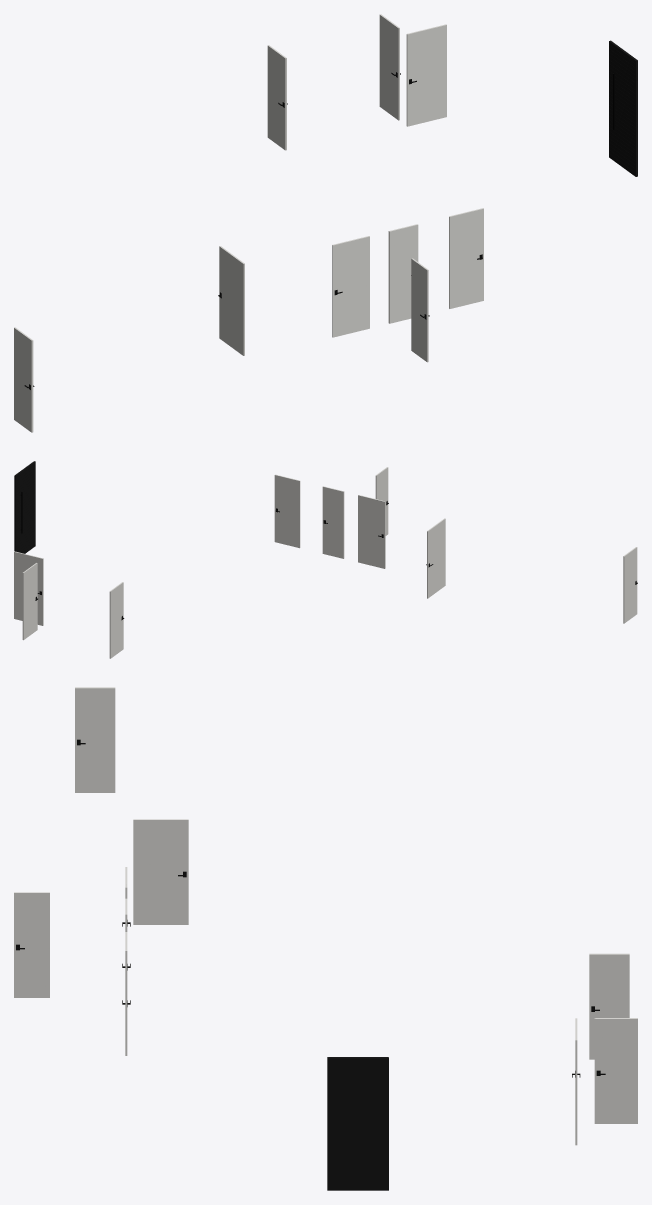
Rendered from casa_portas.glb.
3 views of the same model, one above another, from view 1: azimuth 30°, elevation 25°; view 2: azimuth 150°, elevation 25°; view 3: azimuth 270°, elevation 25° (orthographic). The views are drawn at different scales.
Visible parts, largest first — view 1: PORTA_servico, PORTA_hospedes, PORTA_entrada, PORTA_escritorio, PORTA_lavabo, PORTA_suite, PORTA_lavanderia, PORTA_gatos, PORTA_wc_master, PORTA_wc_hospedes; view 2: PORTA_hospedes, PORTA_entrada, PORTA_escritorio, PORTA_lavabo, PORTA_suite, PORTA_servico, PORTA_lavanderia, PORTA_gatos, PORTA_wc_master, PORTA_wc_hospedes; view 3: PORTA_entrada, PORTA_suite, PORTA_lavanderia, PORTA_wc_master, PORTA_wc_hospedes, PORTA_gatos.
Part boxes in pixels (bbox=[...]): PORTA_servico: bbox=[406, 24, 446, 126]; PORTA_hospedes: bbox=[332, 236, 369, 337]; PORTA_entrada: bbox=[609, 40, 637, 176]; PORTA_escritorio: bbox=[449, 208, 483, 308]; PORTA_lavabo: bbox=[388, 224, 418, 323]; PORTA_suite: bbox=[218, 246, 244, 355]; PORTA_lavanderia: bbox=[379, 14, 400, 120]; PORTA_gatos: bbox=[267, 45, 287, 150]; PORTA_wc_master: bbox=[14, 327, 34, 432]; PORTA_wc_hospedes: bbox=[411, 258, 429, 362]; PORTA_hospedes: bbox=[358, 495, 385, 568]; PORTA_entrada: bbox=[14, 461, 35, 553]; PORTA_escritorio: bbox=[274, 474, 300, 548]; PORTA_lavabo: bbox=[322, 486, 344, 558]; PORTA_suite: bbox=[426, 518, 445, 598]; PORTA_servico: bbox=[14, 551, 43, 625]; PORTA_lavanderia: bbox=[22, 563, 37, 640]; PORTA_gatos: bbox=[109, 582, 124, 658]; PORTA_wc_master: bbox=[623, 547, 637, 623]; PORTA_wc_hospedes: bbox=[375, 467, 388, 535]; PORTA_entrada: bbox=[327, 1057, 388, 1190]; PORTA_suite: bbox=[133, 819, 188, 924]; PORTA_lavanderia: bbox=[594, 1018, 637, 1123]; PORTA_wc_master: bbox=[75, 687, 115, 792]; PORTA_wc_hospedes: bbox=[14, 892, 49, 997]; PORTA_gatos: bbox=[589, 953, 629, 1059].
Bounding box in the file's own units: 17.11 × 2.64 × 11.28.
1 material, 1 textured.
